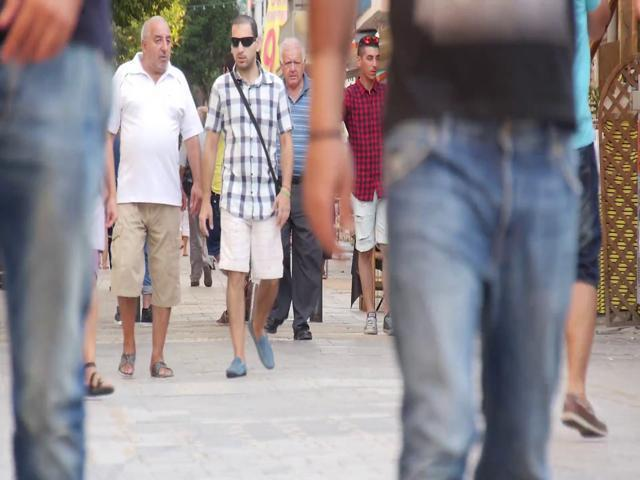shoe: (561, 394, 607, 438), (250, 322, 276, 369), (118, 343, 136, 374), (150, 357, 173, 377), (227, 358, 246, 378), (292, 324, 311, 340), (364, 312, 377, 335)
